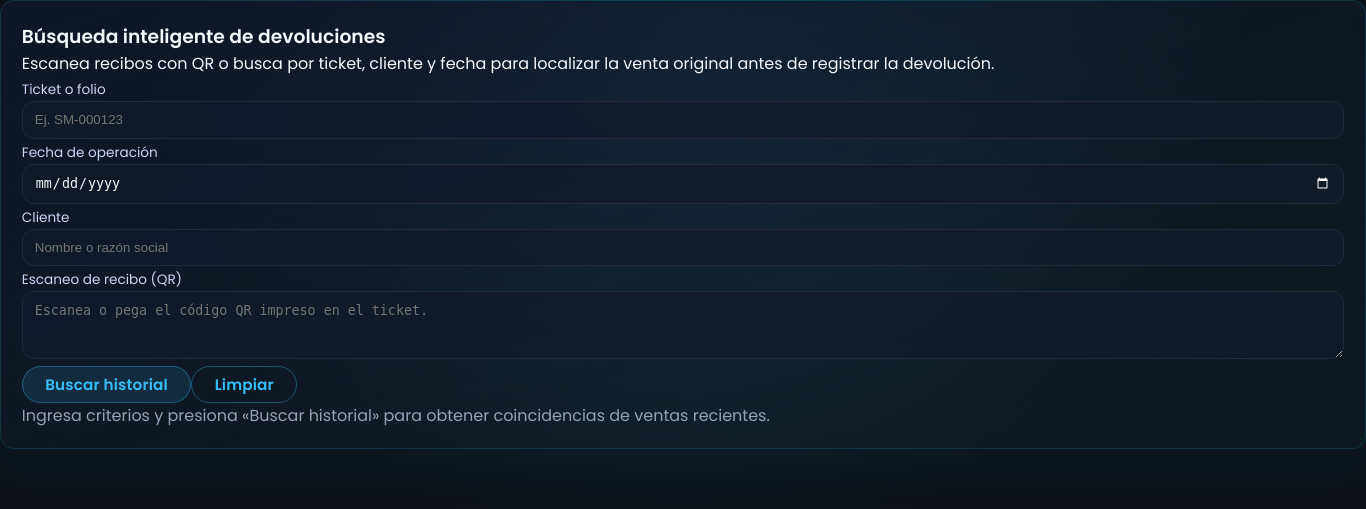
it: ReturnsSearch › requiere criterios antes de buscar
The width and height of the screenshot is (1366, 509).
Click the button "Buscar historial". click: (107, 384)
box: [22,366,191,403]
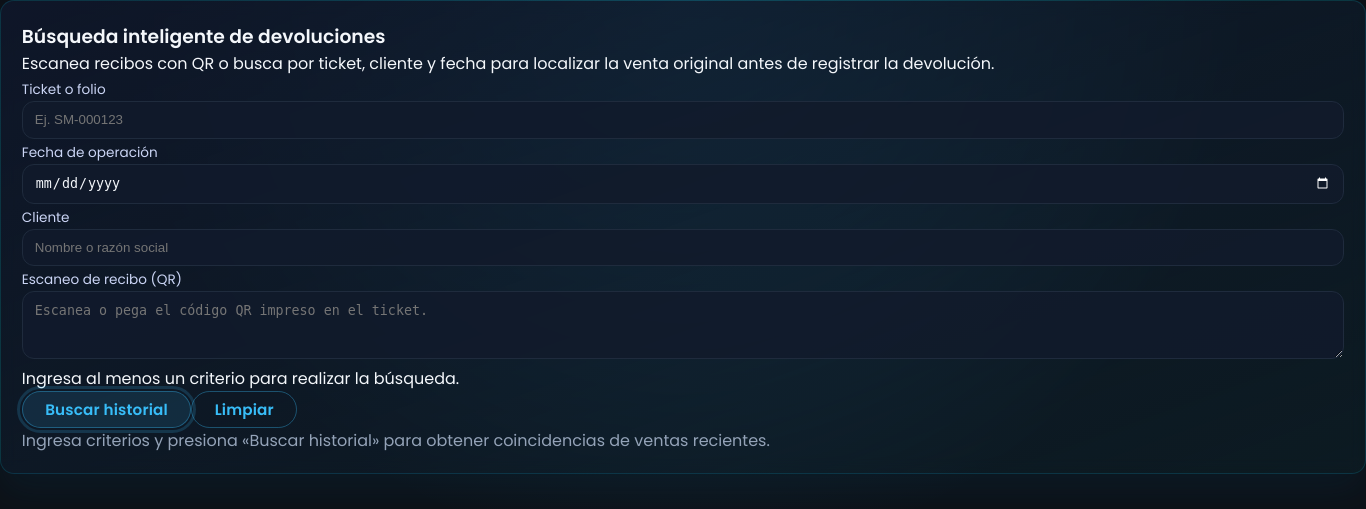
Result: the text "Ingresa al menos un criterio para realizar la búsqueda." is shown at [22,367,459,390]
